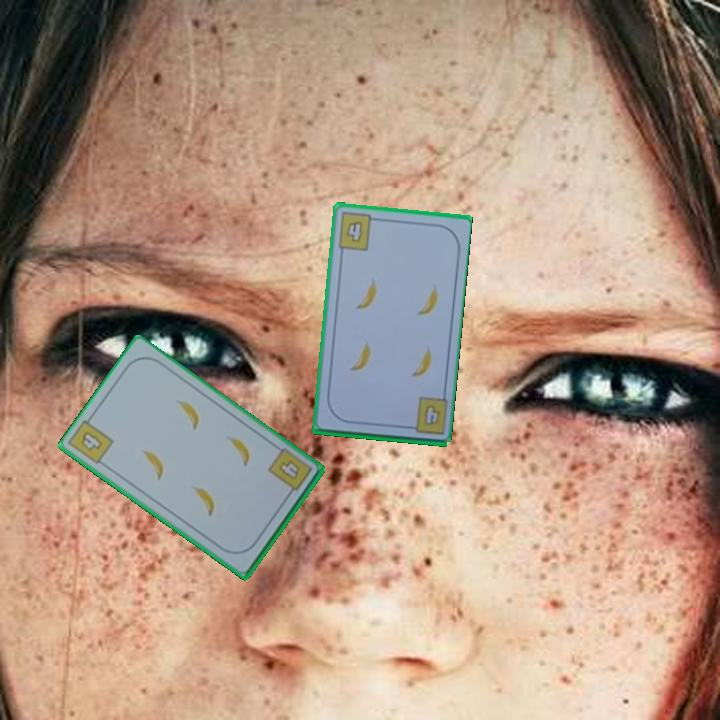4b: (264, 447, 315, 500), (334, 209, 381, 253), (77, 427, 105, 454), (420, 401, 443, 428)
